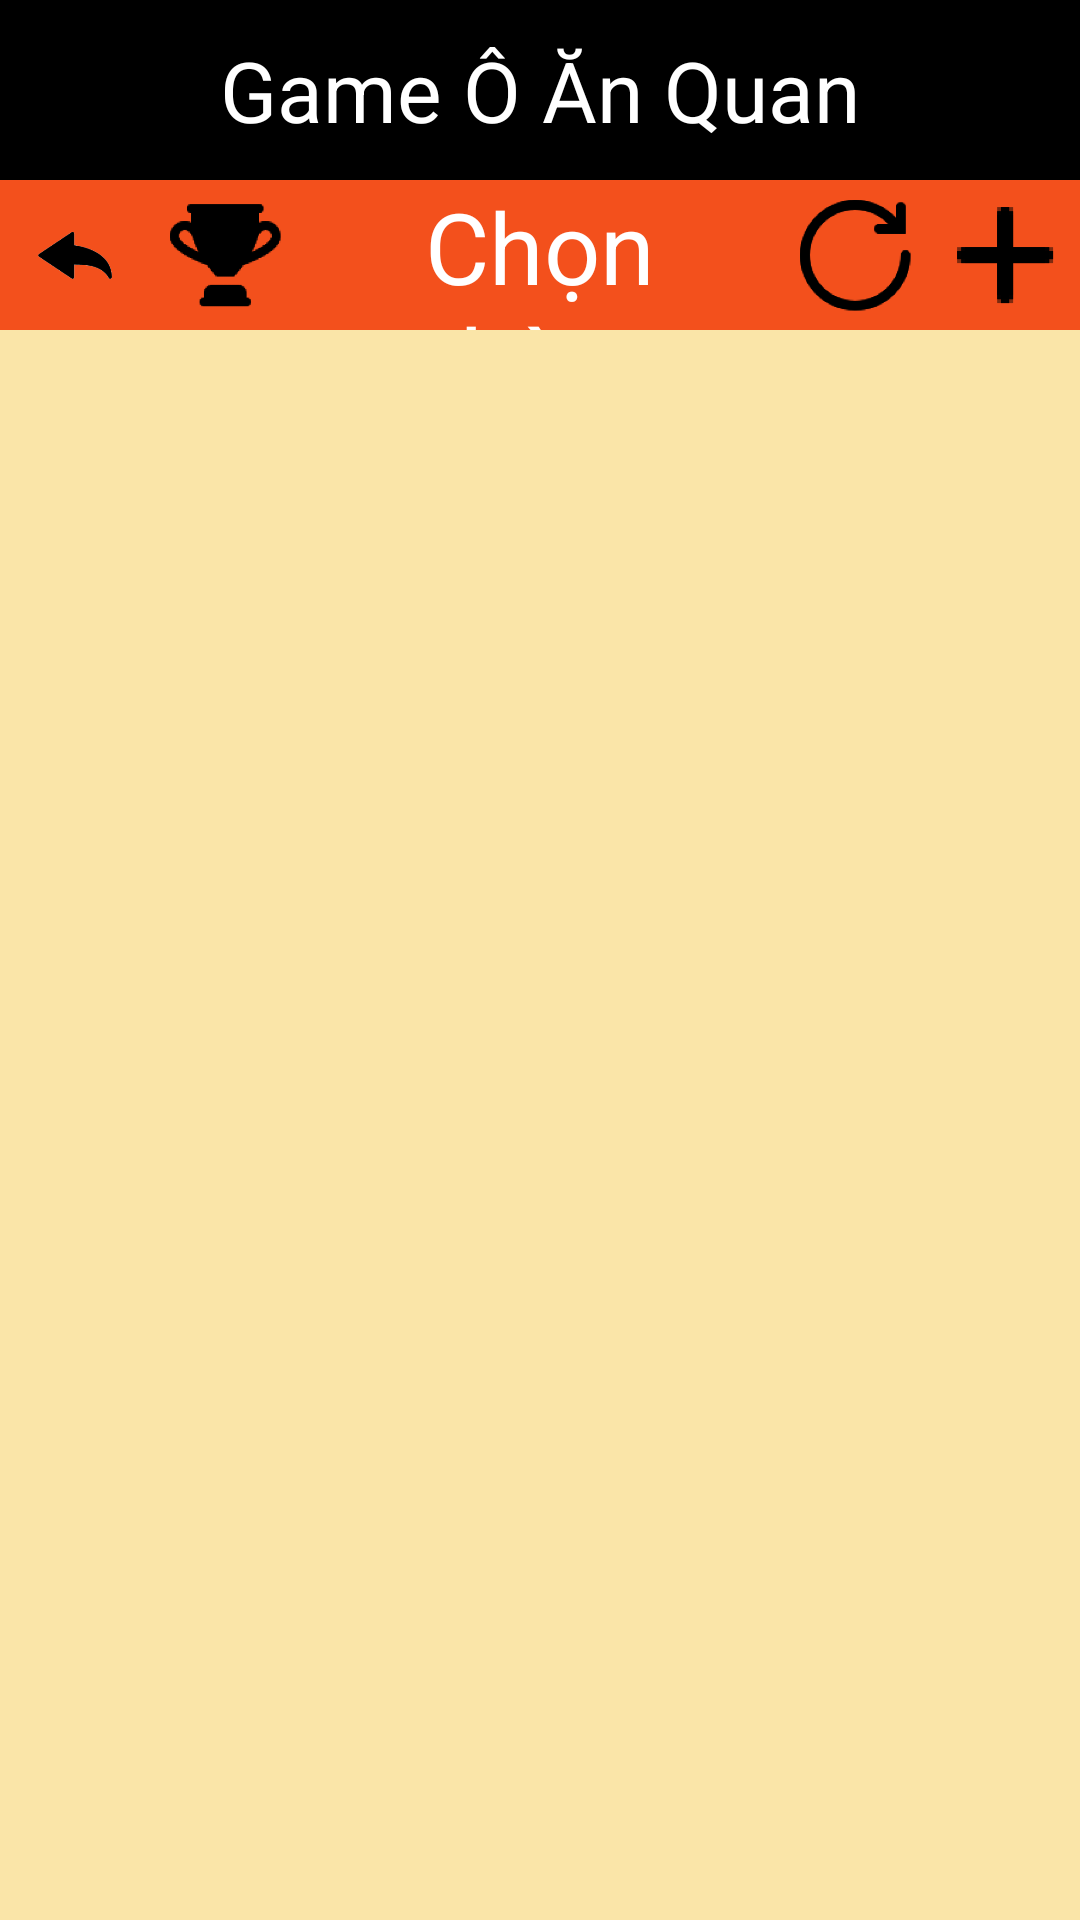

Screen size 1080px x 1920px. Icon name, then its box in pixels as (x1, y1, x2, y2):
back: (38, 232, 112, 279)
plus: (957, 207, 1054, 304)
refresh: (800, 200, 911, 311)
trophy: (170, 204, 281, 307)
